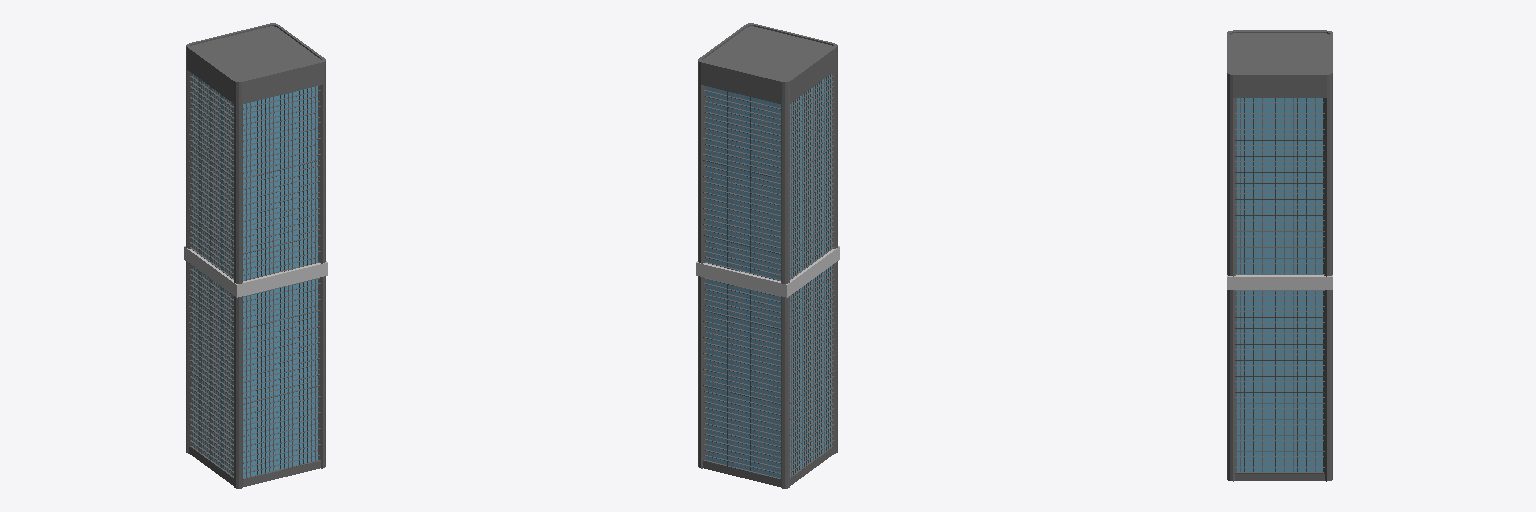
3 views of the same model, side by side, from view 1: azimuth 30°, elevation 25°; view 2: azimuth 150°, elevation 25°; view 3: azimuth 270°, elevation 25° (orthographic).
Parts seen in each view (by area): view 1: Gengon01, Box01; view 2: Gengon01, Box01; view 3: Gengon01, Box01.
Part boxes in pixels (x1,y1,x2,y2): Gengon01: (186,23,325,488); Box01: (184,246,327,297); Gengon01: (698,23,837,488); Box01: (696,246,839,297); Gengon01: (1227,30,1332,481); Box01: (1227,275,1332,289).
Size of the model in its own units: 1.7 by 7.19 by 1.7.